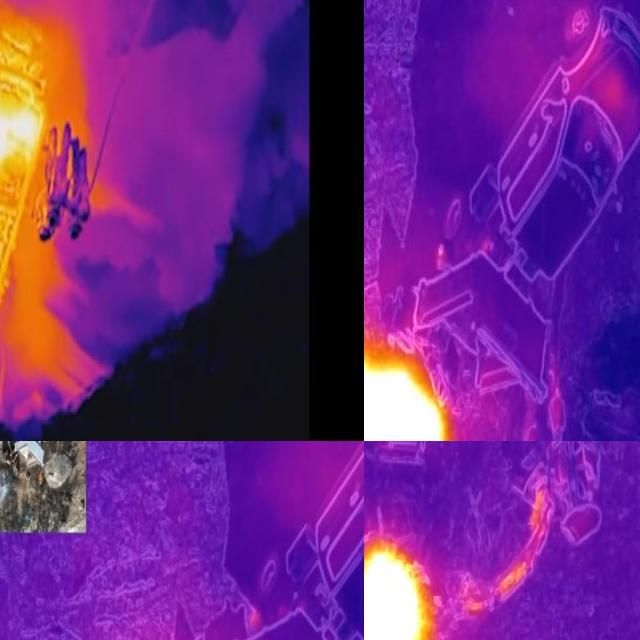fire: (365, 339, 455, 442), (365, 542, 432, 640), (1, 92, 50, 192)
